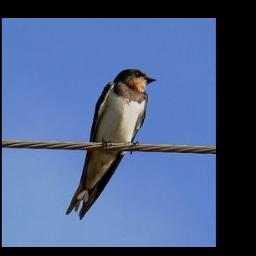Swallow: (65, 67, 158, 219)
